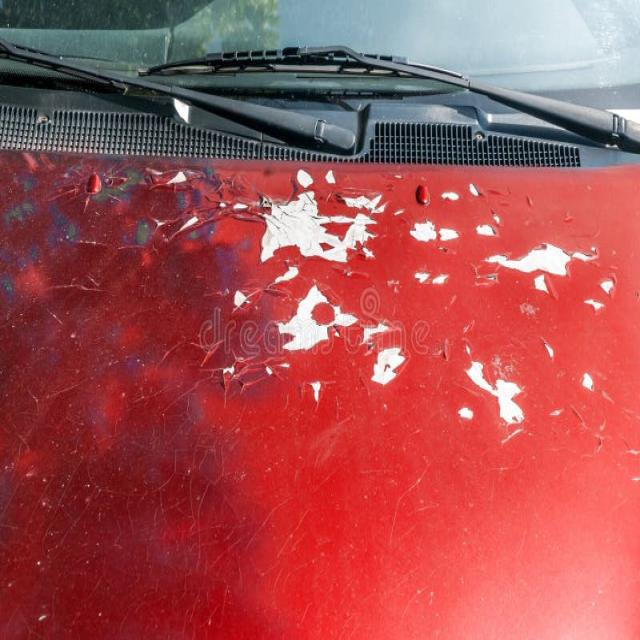scratch: (0, 149, 640, 500)
